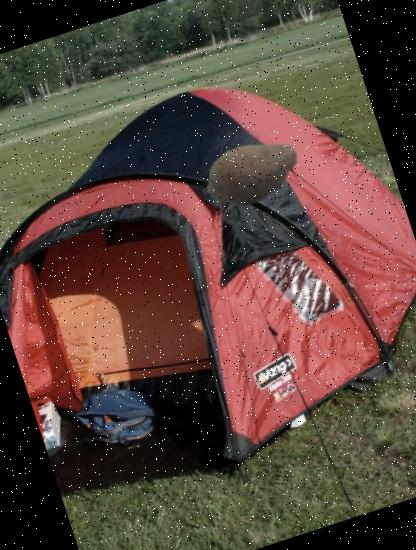Potato: (188, 108, 317, 237)
